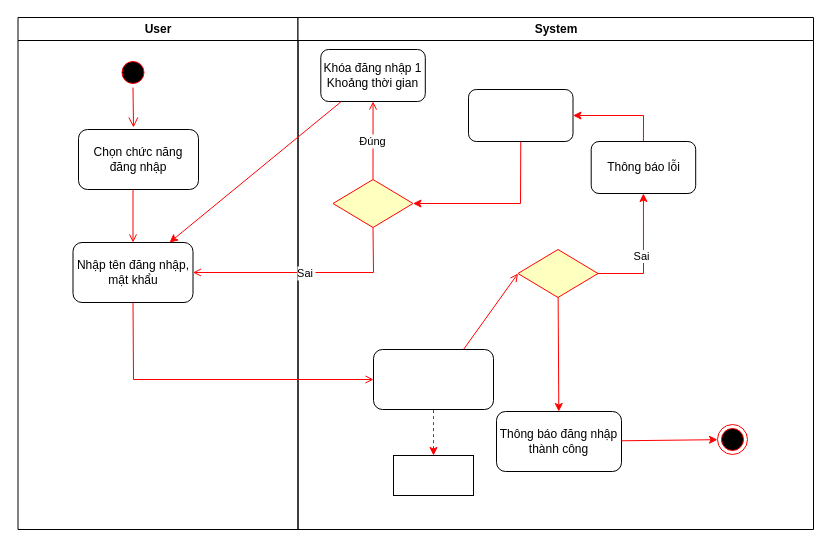
This 831x547 diagram has some shape labels left out. The shapes that lost their labels are listed below. From the top down, each one's centre as x and y in pixels, then its label:
(x=520, y=115): Kiểm tra số lần đăng nhập quá 5 lần
(x=433, y=379): Kiểm tra thông tin đăng nhập
(x=433, y=475): Tài khoản
